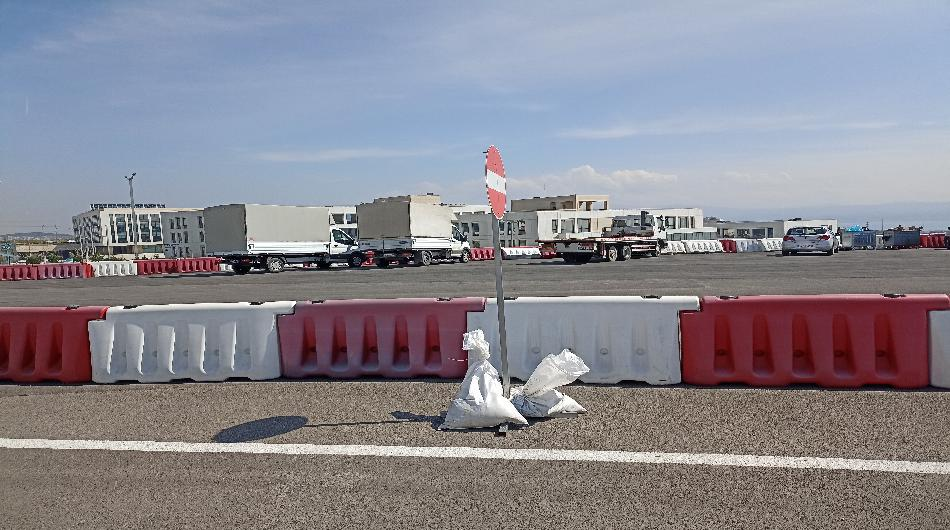girilmez: (481, 142, 510, 221)
